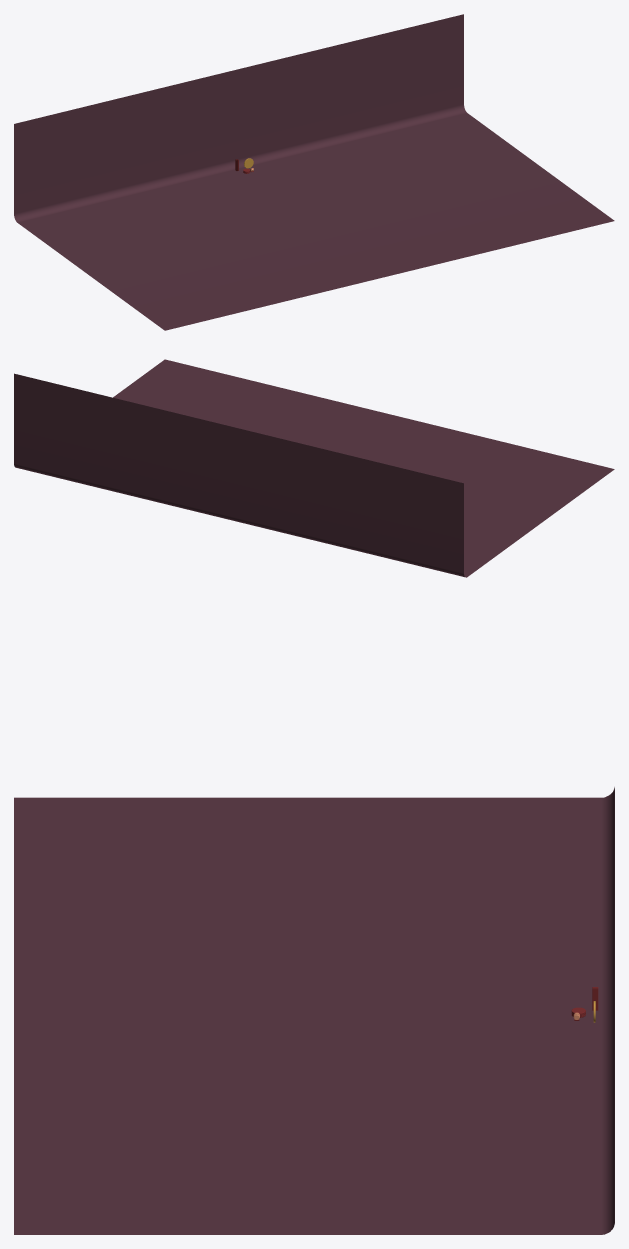
File: escarpment.glb
The picture shows the model from 3 angles, top to bottom: view 1: azimuth 30°, elevation 25°; view 2: azimuth 150°, elevation 25°; view 3: azimuth 270°, elevation 25°; orthographic projection. The views are drawn at different scales.
Visible parts, largest first — view 1: Cyclorama.003; view 2: Cyclorama.003; view 3: Cyclorama.003.
Boxes of the visible parts, box(x1,y1,x2,y2) form: Cyclorama.003: box(14, 14, 614, 330); Cyclorama.003: box(14, 359, 614, 577); Cyclorama.003: box(14, 787, 614, 1234).
Size of the model in its own units: 220 by 45.13 by 128.
